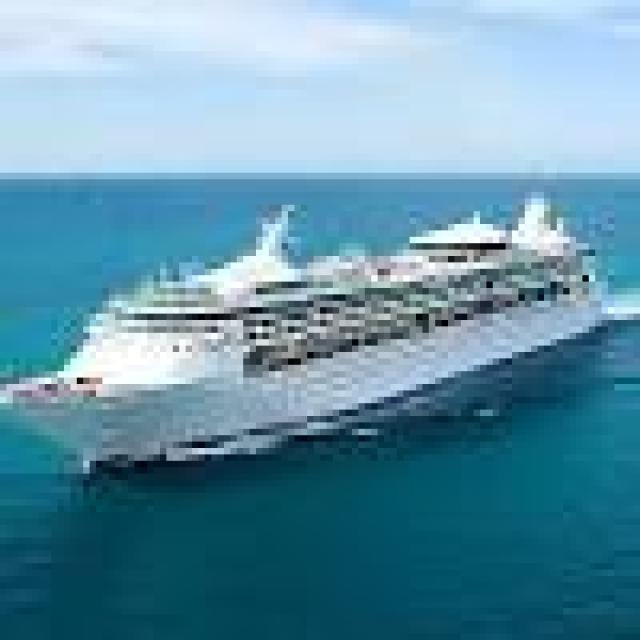passenger ship: (25, 146, 569, 460)
